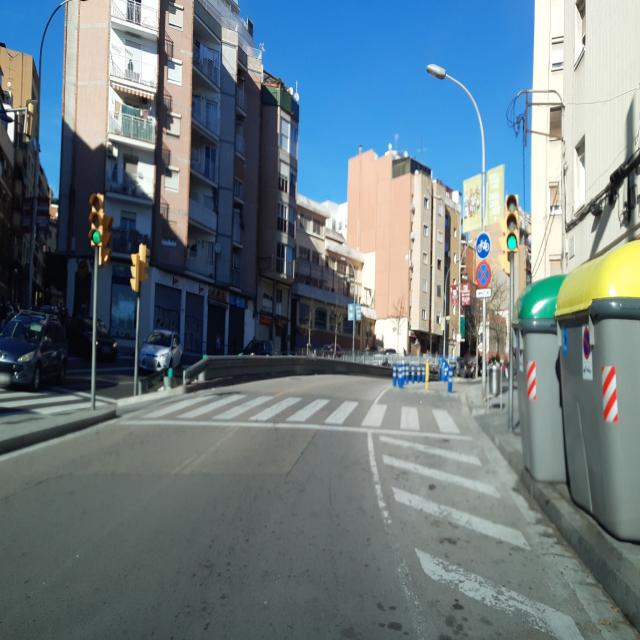forb_stopping: (583, 325, 591, 361)
forb_waiting: (476, 263, 490, 287)
